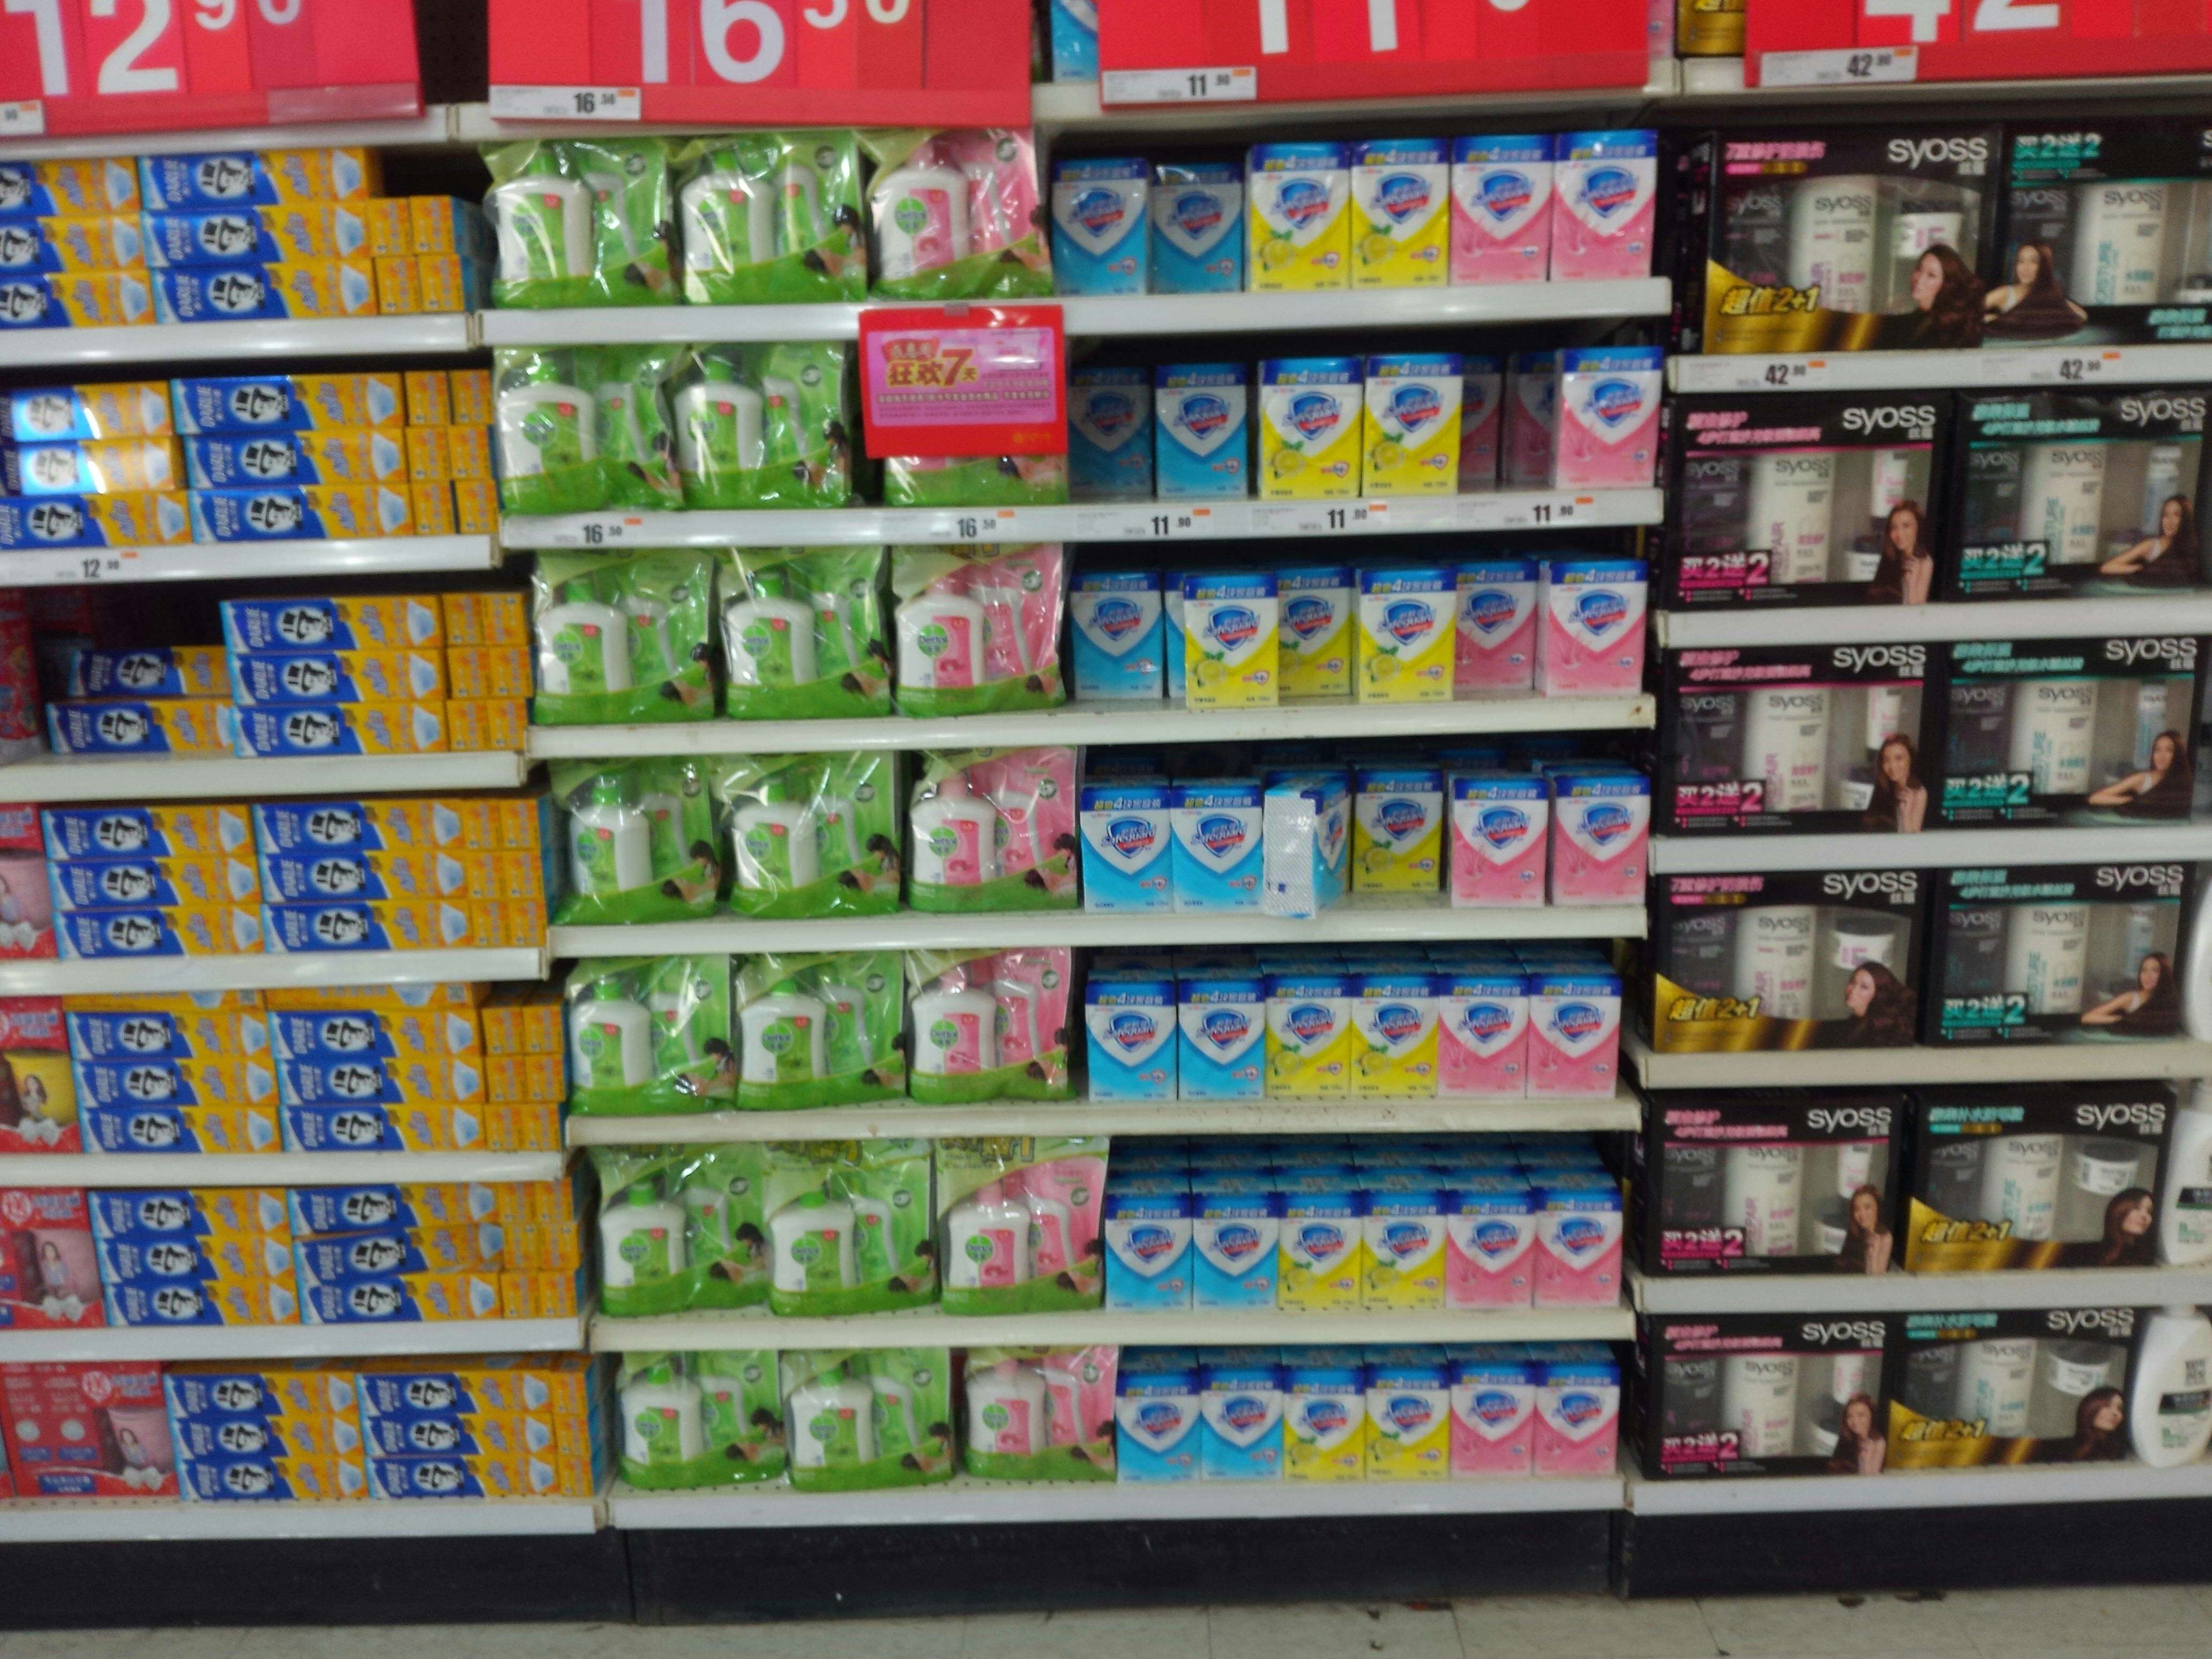product: (1700, 127, 1993, 355), (1672, 394, 1944, 610), (1944, 394, 2209, 596), (1653, 868, 1926, 1054), (1925, 647, 2212, 823), (1660, 647, 1926, 835), (1994, 124, 2212, 345), (1644, 1093, 1905, 1274), (1926, 868, 2179, 1039), (1909, 1091, 2153, 1265), (1646, 1314, 1876, 1476), (1883, 1317, 2118, 1471), (676, 138, 869, 301), (719, 749, 904, 917), (491, 138, 674, 305), (536, 549, 711, 723), (934, 1134, 1103, 1312), (873, 125, 1043, 298), (709, 547, 887, 713), (880, 350, 1073, 502), (761, 1136, 932, 1307), (888, 542, 1057, 714), (597, 1138, 759, 1317), (503, 342, 674, 511), (902, 749, 1076, 910), (679, 342, 841, 507), (570, 953, 733, 1115), (552, 756, 707, 925), (735, 953, 909, 1101), (779, 1349, 958, 1490), (913, 943, 1068, 1105), (608, 1347, 779, 1488), (3, 1358, 158, 1502), (956, 1347, 1120, 1478), (1548, 127, 1653, 282), (1550, 343, 1660, 490), (1240, 146, 1350, 288), (1444, 138, 1548, 282), (1348, 136, 1444, 289), (1256, 359, 1360, 498), (148, 146, 359, 214), (153, 260, 373, 324), (1360, 359, 1461, 497), (1541, 563, 1646, 695), (1179, 572, 1280, 708), (1353, 570, 1454, 706), (2, 1187, 98, 1324), (1155, 364, 1249, 500), (233, 592, 435, 655), (261, 796, 462, 859), (232, 702, 439, 762), (167, 376, 401, 429), (1453, 777, 1547, 906), (192, 483, 421, 535), (2137, 1305, 2212, 1466), (1547, 777, 1641, 904), (1071, 352, 1155, 495), (265, 897, 470, 955), (190, 429, 401, 484), (1055, 162, 1148, 289), (0, 490, 192, 551), (1148, 167, 1242, 291), (47, 802, 254, 857), (1170, 788, 1259, 915), (1454, 568, 1541, 697), (0, 1000, 73, 1154), (1527, 978, 1618, 1101), (1083, 789, 1170, 917), (300, 1274, 498, 1330), (1069, 584, 1165, 699), (0, 376, 167, 441), (56, 906, 258, 958), (1360, 1366, 1451, 1480), (291, 1180, 486, 1232), (146, 214, 371, 260), (233, 653, 441, 702), (1353, 781, 1442, 894), (45, 857, 258, 904), (280, 1053, 477, 1103), (165, 1366, 354, 1419), (1533, 1363, 1618, 1478), (1346, 993, 1440, 1096), (73, 1107, 279, 1154), (362, 1366, 547, 1419), (75, 1011, 265, 1061), (1440, 992, 1527, 1100), (1280, 566, 1350, 701), (280, 1105, 479, 1152), (266, 1011, 479, 1054), (99, 1185, 286, 1234), (1120, 1373, 1200, 1486), (63, 643, 225, 699), (1205, 1375, 1289, 1483), (364, 1455, 556, 1502), (0, 443, 190, 490), (101, 1236, 291, 1283), (52, 702, 228, 753), (75, 1061, 277, 1105), (1177, 997, 1263, 1100), (98, 1281, 291, 1326), (169, 1457, 361, 1502), (1451, 1368, 1529, 1478), (1533, 1209, 1622, 1305), (1085, 1004, 1174, 1100), (1359, 1211, 1444, 1310), (2, 270, 145, 329), (261, 857, 470, 897), (1104, 1215, 1191, 1310), (1261, 999, 1346, 1096), (1191, 1213, 1275, 1310), (289, 1236, 500, 1274), (1273, 1216, 1359, 1310), (1447, 1213, 1529, 1310), (3, 216, 145, 270), (2, 159, 132, 216), (1289, 1375, 1360, 1480), (362, 1419, 556, 1455), (165, 1419, 359, 1455), (1259, 796, 1318, 915), (266, 981, 465, 1009), (376, 254, 425, 317), (425, 256, 470, 317), (448, 423, 495, 481), (413, 195, 458, 253), (402, 364, 444, 423), (481, 594, 524, 648), (521, 1002, 564, 1056), (517, 1100, 561, 1154), (448, 362, 489, 418), (446, 697, 488, 753), (488, 695, 528, 753), (486, 647, 531, 697), (406, 423, 446, 479), (373, 197, 413, 253), (456, 479, 498, 532), (538, 1223, 580, 1274), (442, 648, 484, 697), (500, 798, 538, 850), (523, 1056, 566, 1101), (536, 1272, 577, 1321), (547, 1366, 587, 1415), (420, 481, 455, 537), (469, 901, 507, 951), (482, 1006, 521, 1056), (462, 798, 498, 850), (481, 1103, 517, 1154), (446, 596, 481, 647), (505, 850, 540, 901), (493, 1182, 535, 1223), (484, 1056, 523, 1101), (507, 901, 542, 950), (535, 1182, 575, 1223), (500, 1225, 536, 1270), (500, 1272, 536, 1317), (470, 850, 502, 897), (556, 1460, 592, 1499), (556, 1417, 587, 1455)
